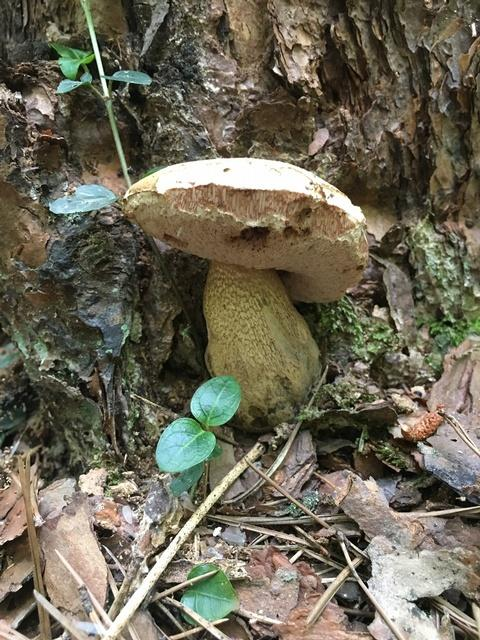Non-edible Mushroom: (120, 155, 370, 434)
